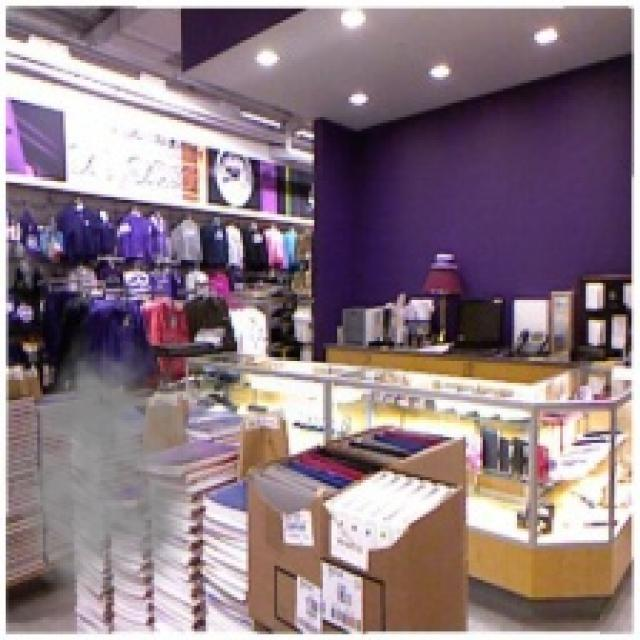smoke: (3, 326, 226, 608)
